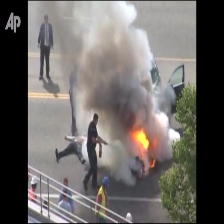fire_h: (129, 128, 149, 159)
fire_l: (150, 138, 159, 168)
